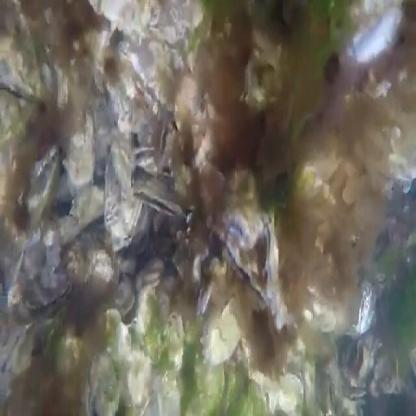3: (348, 0, 405, 62), (89, 0, 161, 42), (131, 179, 182, 217), (116, 279, 138, 326), (134, 146, 163, 177), (158, 125, 176, 164), (355, 341, 372, 382)
Oyster- Indeterminate: (0, 315, 54, 405), (217, 235, 266, 313), (264, 213, 291, 332), (24, 145, 59, 209), (22, 273, 73, 311), (224, 206, 262, 252), (356, 283, 379, 340), (279, 370, 306, 416), (321, 375, 338, 416), (141, 258, 163, 287)
Oyster-Closed: (202, 285, 252, 368), (105, 144, 143, 245), (69, 113, 94, 187), (89, 357, 120, 416), (100, 309, 130, 362), (173, 80, 201, 131), (196, 360, 224, 409), (127, 353, 153, 402)
